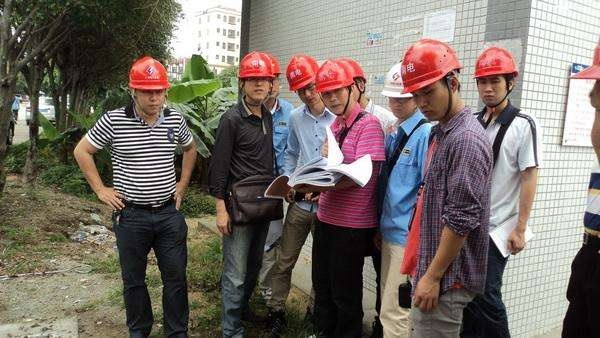red: (398, 34, 466, 123), (470, 43, 519, 108), (124, 54, 170, 119), (311, 57, 356, 116), (284, 51, 322, 106), (237, 50, 272, 105)
white: (382, 60, 419, 121)
